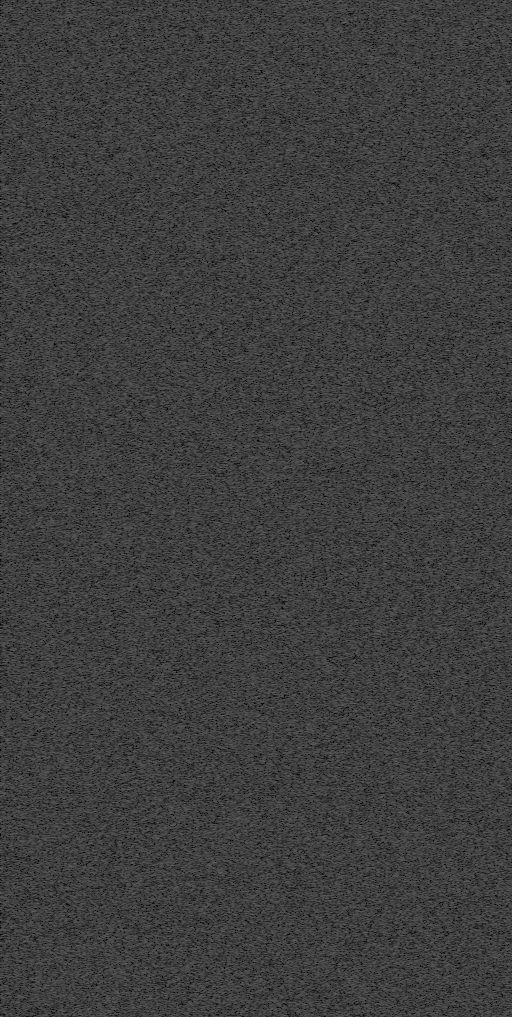wv_am: (114, 0, 119, 1016), (237, 205, 242, 1016), (58, 131, 63, 886), (237, 0, 242, 200), (58, 0, 63, 116), (58, 905, 63, 953), (58, 985, 63, 1016), (58, 957, 63, 984), (58, 117, 63, 129), (58, 896, 63, 904), (58, 887, 63, 895)
wv_cw: (446, 0, 451, 1016), (57, 0, 62, 1016)
wv_lsb: (430, 341, 435, 549), (430, 820, 435, 1016), (430, 766, 435, 819), (430, 254, 435, 295), (430, 727, 435, 765), (430, 220, 435, 253), (430, 175, 435, 202), (430, 550, 435, 571), (430, 584, 434, 605), (431, 646, 434, 674), (430, 606, 434, 625), (431, 5, 434, 26), (430, 296, 434, 309), (430, 159, 434, 172), (430, 716, 435, 726), (430, 213, 435, 219), (430, 203, 435, 209), (431, 572, 434, 580), (431, 50, 434, 58), (431, 41, 434, 49), (431, 78, 434, 85), (431, 334, 434, 340), (431, 87, 434, 92), (431, 27, 434, 32), (430, 629, 434, 632), (430, 320, 434, 323), (431, 136, 434, 140), (431, 110, 434, 114), (431, 704, 434, 708), (431, 691, 434, 695), (431, 686, 434, 690), (430, 642, 434, 645), (431, 154, 434, 157), (431, 104, 434, 107), (431, 95, 434, 98), (431, 59, 434, 62), (431, 638, 434, 641)
wv_usb: (56, 575, 62, 714), (57, 294, 62, 436), (57, 932, 62, 993), (57, 51, 62, 112), (57, 113, 62, 155), (56, 20, 62, 50), (57, 220, 61, 254), (57, 860, 61, 893), (57, 908, 62, 931), (57, 994, 62, 1016), (131, 59, 136, 78), (57, 715, 62, 729), (57, 266, 61, 283), (57, 156, 61, 173), (132, 803, 135, 825), (57, 894, 62, 907), (132, 974, 136, 990), (57, 449, 61, 462), (57, 489, 61, 501), (57, 7, 61, 19), (57, 849, 61, 859), (132, 870, 135, 883), (58, 759, 61, 771), (132, 706, 136, 714), (132, 85, 136, 93), (57, 740, 61, 748), (57, 730, 61, 738), (57, 211, 61, 219), (57, 202, 61, 210), (57, 179, 61, 187), (132, 840, 136, 847), (132, 715, 136, 722), (132, 854, 135, 863), (132, 696, 135, 705), (132, 902, 135, 910), (132, 830, 135, 838), (132, 774, 135, 782), (132, 117, 135, 125), (58, 503, 61, 511), (132, 789, 135, 796), (132, 723, 135, 730), (132, 97, 135, 104), (58, 475, 61, 482), (132, 848, 136, 853), (132, 79, 136, 84), (132, 884, 135, 890), (58, 442, 61, 448), (57, 174, 61, 178), (132, 864, 135, 869), (132, 783, 135, 788), (132, 677, 135, 682), (132, 534, 135, 539), (132, 527, 135, 532), (132, 37, 135, 42), (58, 843, 61, 848), (58, 807, 61, 812), (58, 483, 61, 488), (58, 468, 61, 473), (58, 255, 61, 260), (58, 188, 61, 193), (132, 946, 135, 951), (132, 916, 135, 921), (132, 894, 135, 898), (132, 798, 135, 802), (132, 755, 135, 759), (132, 516, 135, 520), (132, 23, 135, 27), (58, 786, 61, 790), (58, 778, 61, 782), (57, 437, 61, 440), (58, 194, 61, 198), (132, 1006, 135, 1010), (132, 938, 135, 942), (132, 826, 135, 829), (132, 769, 135, 772), (132, 764, 135, 767), (132, 760, 135, 763), (132, 745, 135, 748), (132, 741, 135, 744), (132, 732, 135, 735), (132, 687, 135, 690), (132, 563, 135, 566), (132, 554, 135, 557), (132, 512, 135, 515), (132, 503, 135, 506), (132, 499, 135, 502), (132, 479, 135, 482), (132, 475, 135, 478), (132, 466, 135, 469), (132, 233, 135, 236), (132, 151, 135, 154), (132, 126, 135, 129), (132, 15, 135, 18), (58, 749, 61, 752), (58, 521, 61, 524), (58, 288, 61, 291), (58, 284, 61, 287), (132, 1000, 135, 1003), (132, 955, 135, 958), (132, 931, 135, 934)
